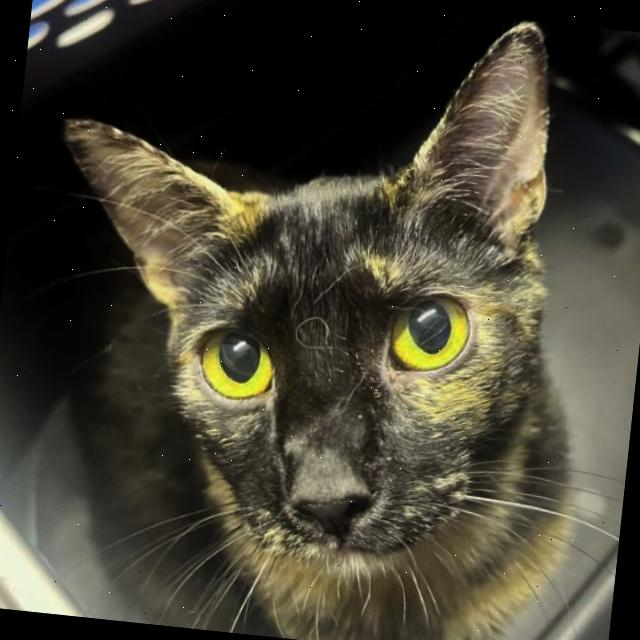domestic_short_hair_cat: (0, 0, 599, 611)
